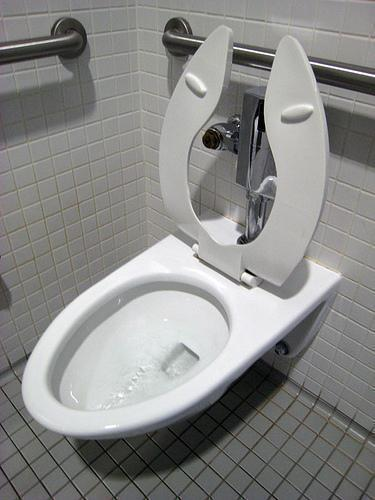Sanitario: (16, 62, 346, 473)
